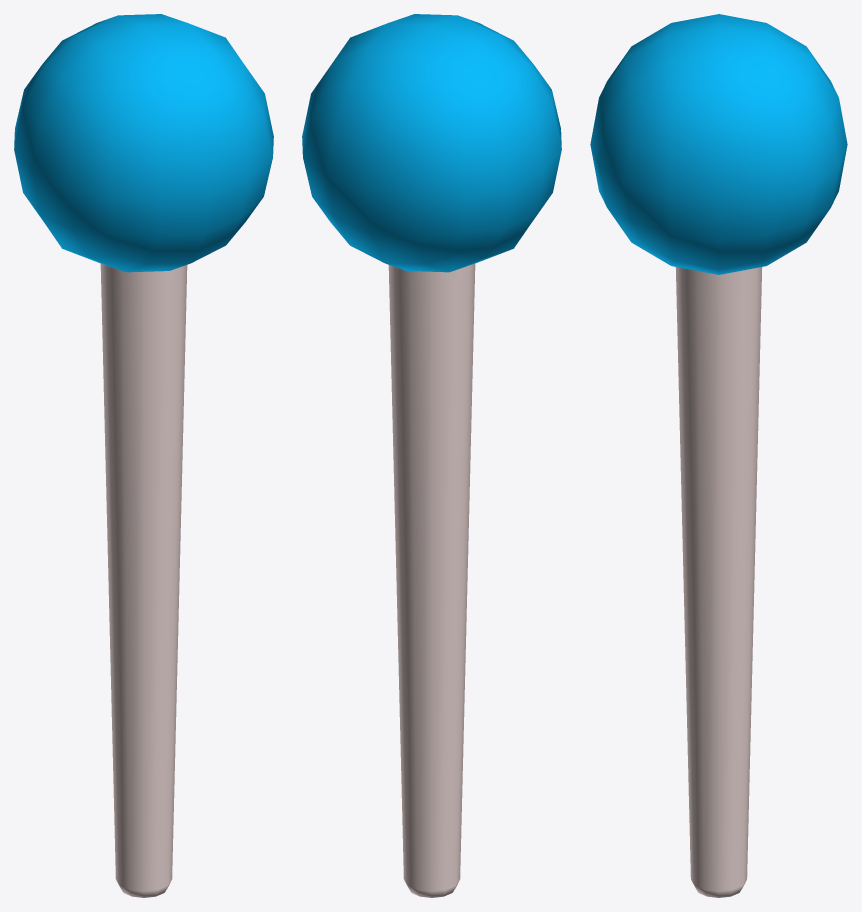
Rendered from Public_19_Needle_4.glb.
3 renders of one model, left to right at view 1: azimuth 30°, elevation 25°; view 2: azimuth 150°, elevation 25°; view 3: azimuth 270°, elevation 25°, orthographic.
Parts seen in each view (by area): view 1: Public_19_Needle_4; view 2: Public_19_Needle_4; view 3: Public_19_Needle_4.
Part boxes in pixels (<box>): Public_19_Needle_4: <box>14,14,273,897</box>; Public_19_Needle_4: <box>302,14,561,897</box>; Public_19_Needle_4: <box>590,14,847,897</box>.
Size of the model in its own units: 0.1604 by 0.5941 by 0.1604.
1 material, 1 textured.
